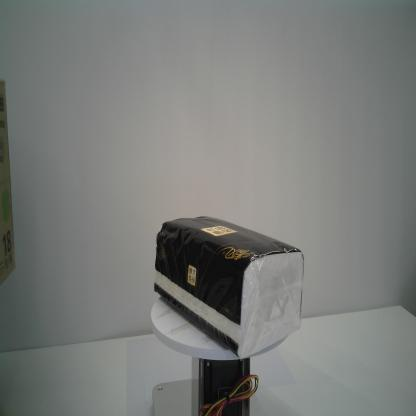Tissue: (152, 214, 305, 361)
